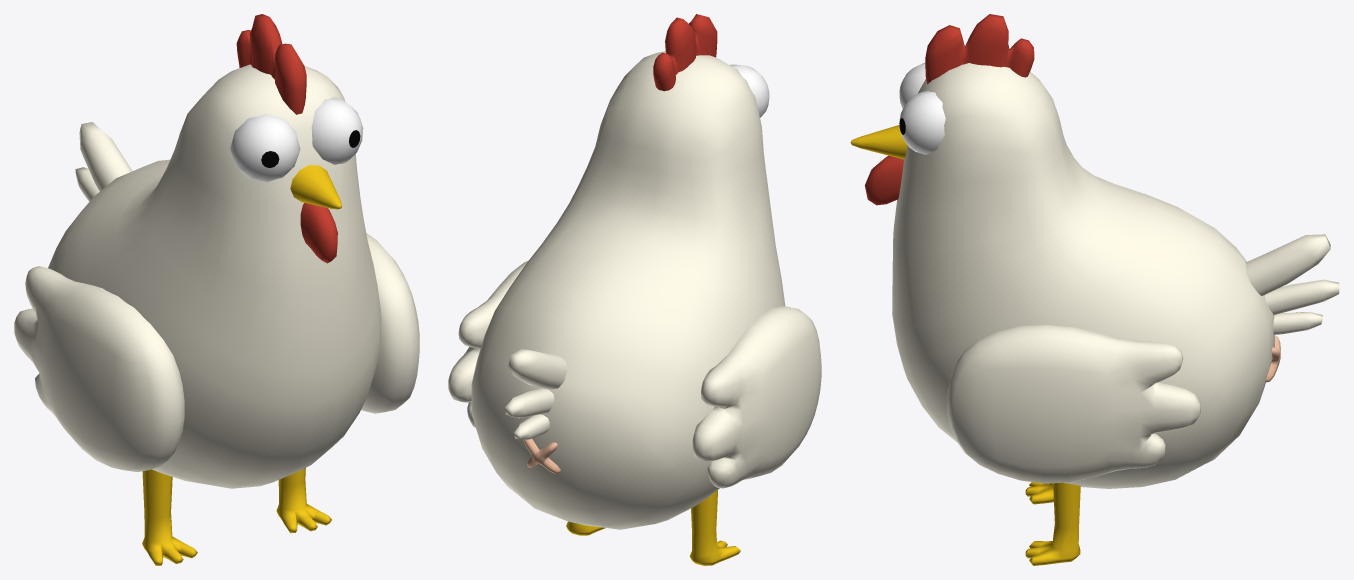
Rendered from chicken.fbx.
The picture shows the model from 3 angles, left to right: view 1: azimuth 30°, elevation 25°; view 2: azimuth 150°, elevation 25°; view 3: azimuth 270°, elevation 25°; orthographic projection. The views are drawn at different scales.
Parts seen in each view (by area): view 1: chicken; view 2: chicken; view 3: chicken.
Part boxes in pixels (x1,y1,x2,y2): chicken: (14,14,419,565); chicken: (448,14,821,565); chicken: (850,14,1339,565).
Size of the model in its own units: 125 by 204 by 177.
